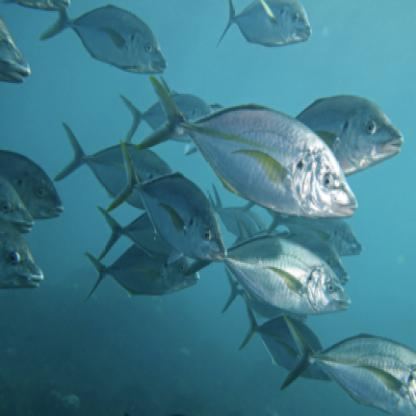Carangidae -Jacks-: (136, 73, 360, 223), (102, 142, 229, 265), (282, 319, 416, 416), (204, 231, 354, 317), (296, 81, 409, 178), (39, 3, 169, 81), (211, 1, 314, 48)
